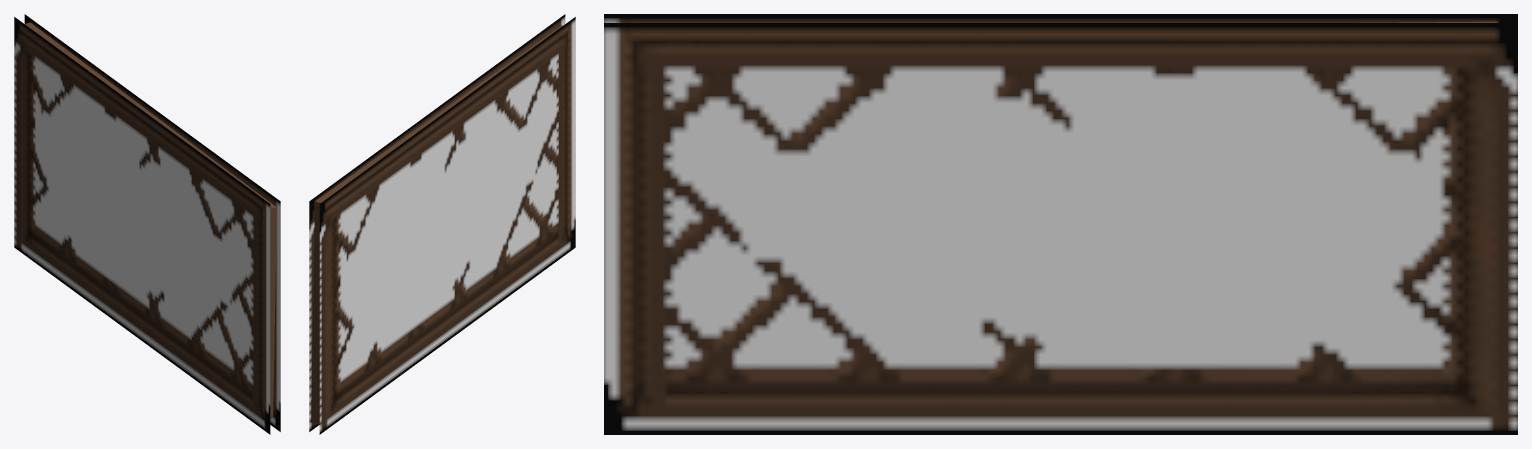
File: pz_native_fixtures_windows_church_108_frame.obj
3 renders of one model, left to right at view 1: azimuth 30°, elevation 25°; view 2: azimuth 150°, elevation 25°; view 3: azimuth 270°, elevation 25°, orthographic. The views are drawn at different scales.
Visible parts, largest first — view 1: pz_native_fixtures_windows_church_108_frame; view 2: pz_native_fixtures_windows_church_108_frame; view 3: pz_native_fixtures_windows_church_108_frame.
Boxes of the visible parts, x1,y1,x2,y2 form: pz_native_fixtures_windows_church_108_frame: [14, 14, 280, 434]; pz_native_fixtures_windows_church_108_frame: [309, 14, 575, 434]; pz_native_fixtures_windows_church_108_frame: [604, 14, 1517, 434].
Size of the model in its own units: 0.04 by 0.8438 by 1.7.
1 material, 1 textured.
